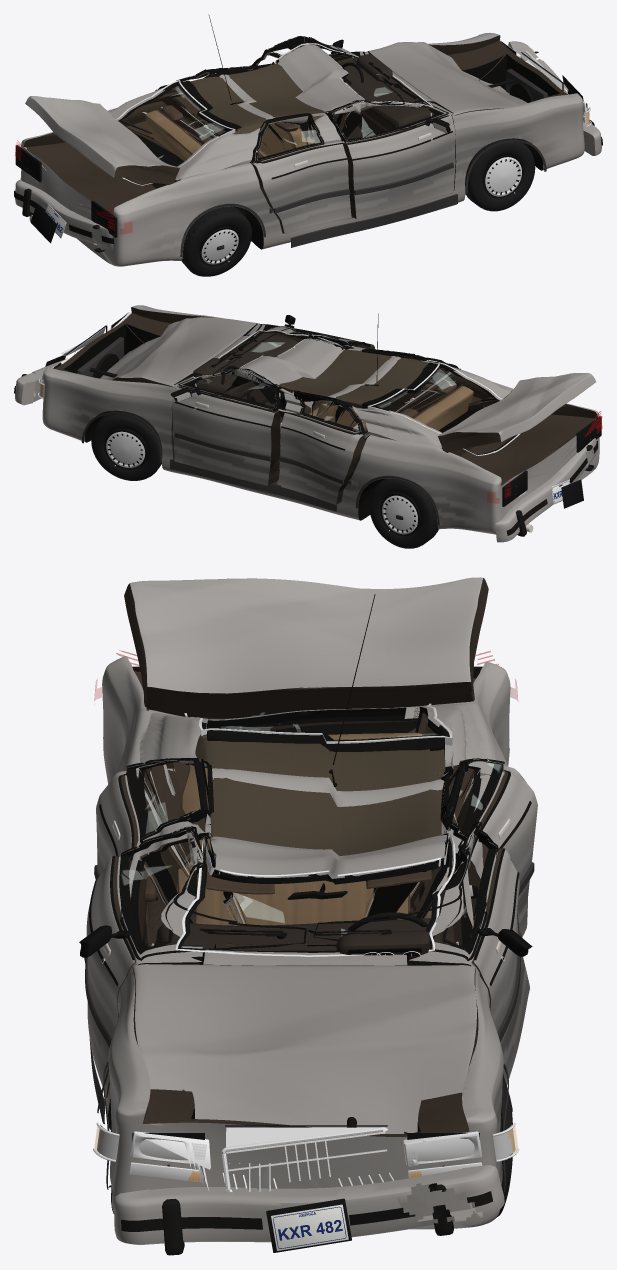
Rendered from sedan87_roll_d1.glb.
3 renders of one model, top to bottom at view 1: azimuth 30°, elevation 25°; view 2: azimuth 150°, elevation 25°; view 3: azimuth 270°, elevation 25°, orthographic. The views are drawn at different scales.
Visible parts, largest first — view 1: Body, Door_FR, Door_RR, Interior, Trunk, Hood, Wheel_FR_mesh, Wheel_RR_mesh, Trim, Ends, Bumper_R, Trim_FR (+6 smaller); view 2: Body, Door_FL, Door_RL, Hood, Trunk, Interior, Wheel_FL_mesh, Wheel_RL_mesh, Bumper_R, Ends, Trim, Glass (+7 smaller); view 3: Body, Hood, Trunk, Bumper_F, Interior, Ends, Door_FL, Door_FR, Glass, Door_RL, Door_RR, Trim_FR (+4 smaller).
Part boxes in pixels (x1,y1,x2,y2): Body: [20, 32, 584, 266]; Door_FR: [327, 101, 455, 219]; Door_RR: [251, 114, 351, 233]; Interior: [145, 54, 434, 161]; Trunk: [25, 96, 179, 184]; Hood: [368, 42, 527, 115]; Wheel_FR_mesh: [465, 138, 535, 211]; Wheel_RR_mesh: [181, 206, 251, 276]; Trim: [180, 14, 546, 256]; Ends: [15, 34, 591, 243]; Bumper_R: [14, 179, 114, 252]; Trim_FR: [330, 82, 453, 195]; Body: [42, 305, 599, 534]; Door_FL: [172, 369, 280, 486]; Door_RL: [277, 390, 365, 504]; Hood: [100, 317, 258, 387]; Trunk: [438, 373, 596, 452]; Interior: [193, 332, 473, 455]; Wheel_FL_mesh: [91, 410, 162, 480]; Wheel_RL_mesh: [369, 478, 438, 548]; Bumper_R: [495, 438, 597, 542]; Ends: [37, 312, 601, 508]; Trim: [81, 313, 439, 525]; Glass: [193, 330, 520, 455]; Body: [102, 656, 510, 1229]; Hood: [132, 964, 477, 1133]; Trunk: [124, 577, 488, 718]; Bumper_F: [114, 1165, 504, 1255]; Interior: [154, 732, 445, 965]; Ends: [93, 666, 519, 1252]; Door_FL: [409, 821, 529, 1084]; Door_FR: [86, 826, 203, 1097]; Glass: [175, 703, 455, 956]; Door_RL: [440, 758, 537, 945]; Door_RR: [96, 758, 208, 941]; Trim_FR: [79, 827, 306, 1047].
Bounding box in the file's own units: 5.07 × 1.86 × 1.92.
Materials: 33 (5 with a texture image).
